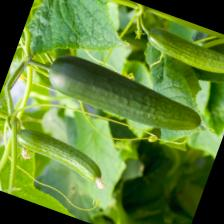cucumber: (41, 48, 208, 142), (8, 122, 110, 186), (143, 24, 224, 80)
